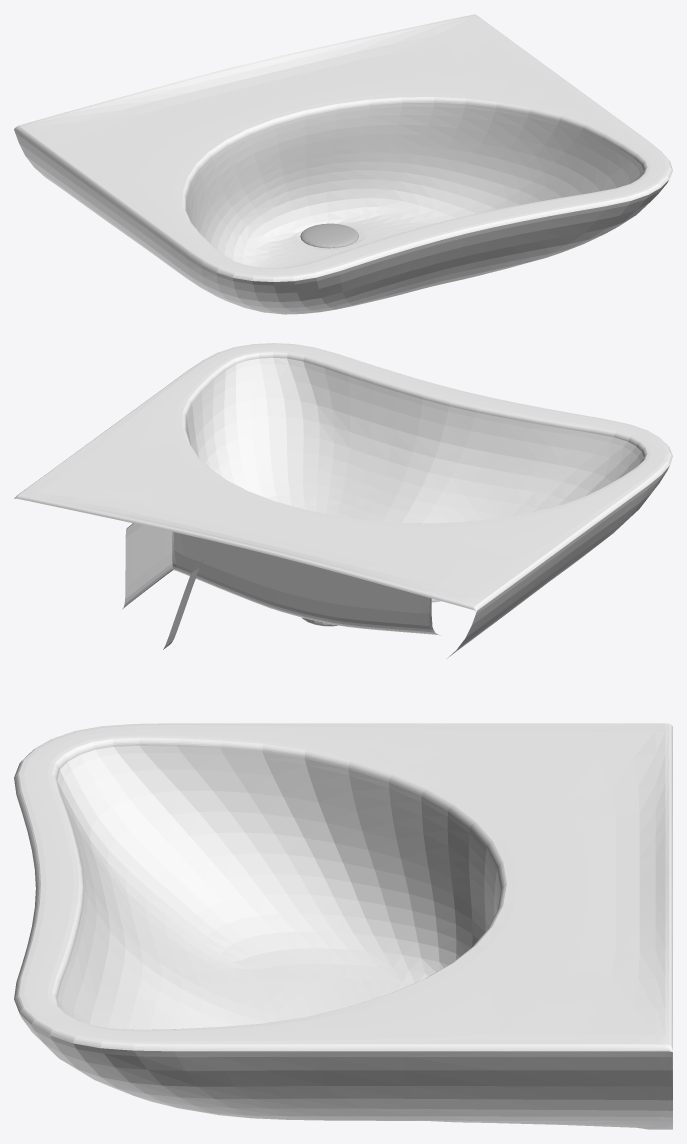
File: AEC_29443.glb
3 views of the same model, one above another, from view 1: azimuth 30°, elevation 25°; view 2: azimuth 150°, elevation 25°; view 3: azimuth 270°, elevation 25° (orthographic). The views are drawn at different scales.
Parts seen in each view (by area): view 1: 0; view 2: 0; view 3: 0.
Part boxes in pixels (left/top/right/bottom): 0: left=14, top=14, right=672, bottom=314; 0: left=14, top=343, right=672, bottom=658; 0: left=14, top=723, right=672, bottom=1129.
Size of the model in its own units: 0.6394 by 0.1724 by 0.5466.
1 material, 1 textured.
